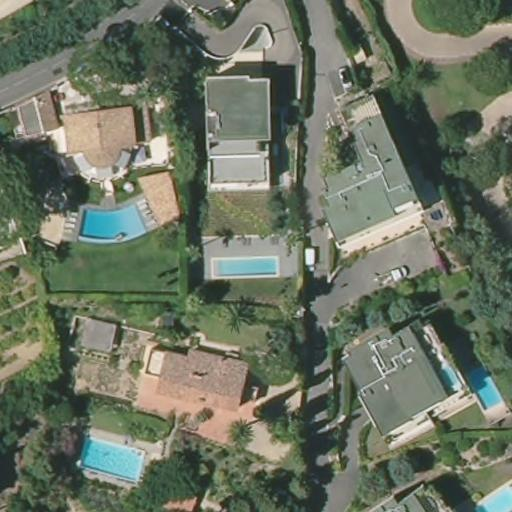pool: (78, 432, 147, 484), (76, 204, 149, 243), (464, 358, 510, 416), (207, 252, 280, 280), (470, 473, 511, 508), (439, 359, 464, 393)
